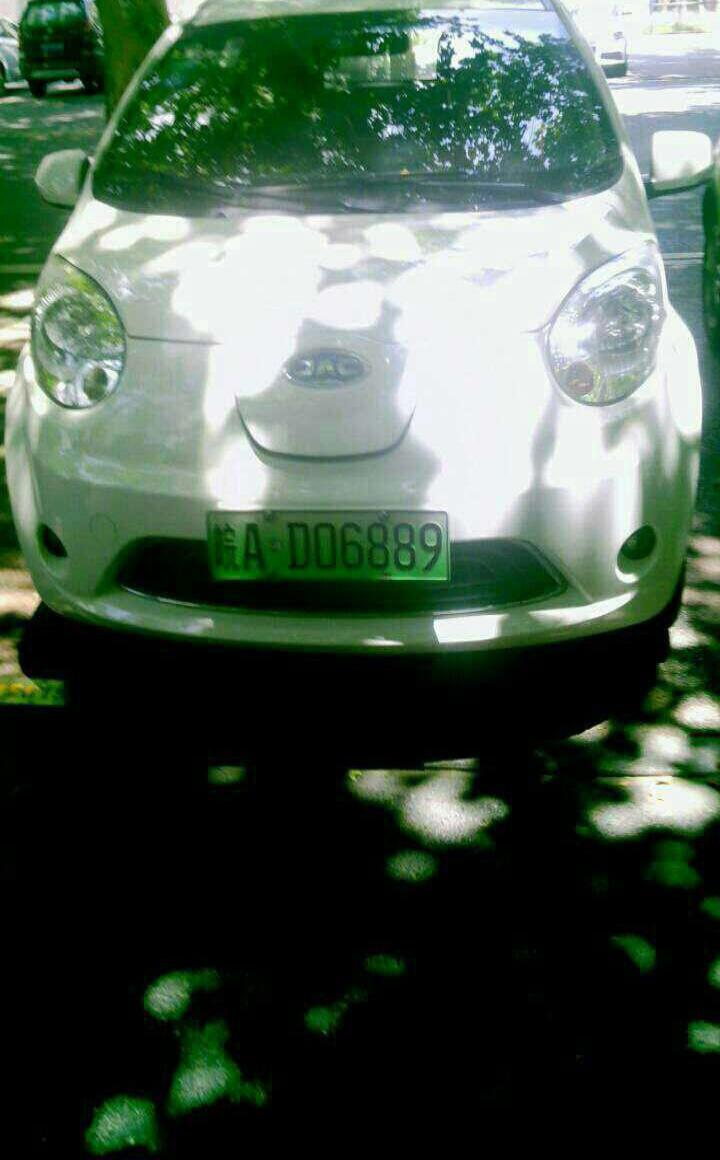car_id: (200, 503, 452, 580)
